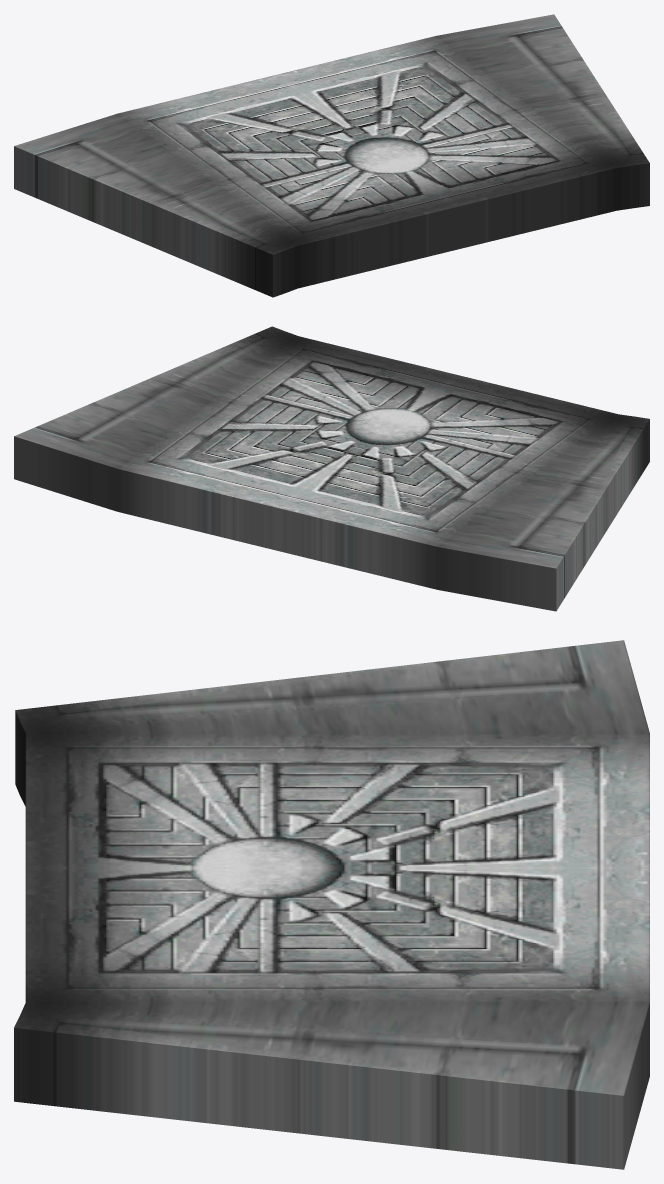
Rendered from DoorOfTime.fbx.
3 views of the same model, one above another, from view 1: azimuth 30°, elevation 25°; view 2: azimuth 150°, elevation 25°; view 3: azimuth 270°, elevation 25° (orthographic). The views are drawn at different scales.
Parts seen in each view (by area): view 1: DoorOfTime; view 2: DoorOfTime; view 3: DoorOfTime.
Part boxes in pixels (left/top/right/bottom): DoorOfTime: left=14, top=14, right=649, bottom=297; DoorOfTime: left=14, top=326, right=649, bottom=611; DoorOfTime: left=14, top=640, right=649, bottom=1169.
Bounding box in the file's own units: 982 × 74.2 × 579.
